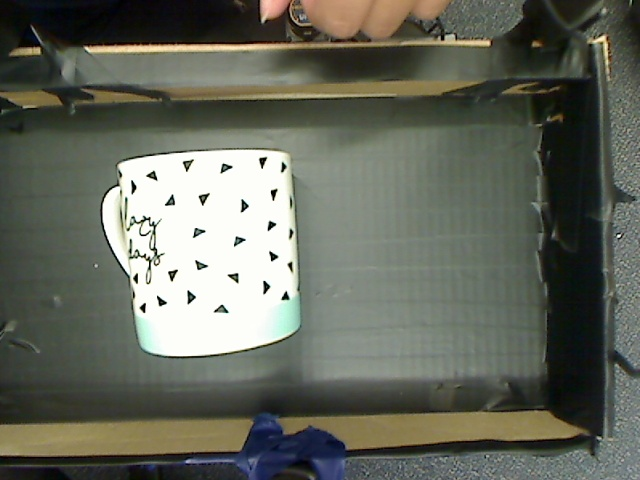mug: (92, 139, 319, 369)
